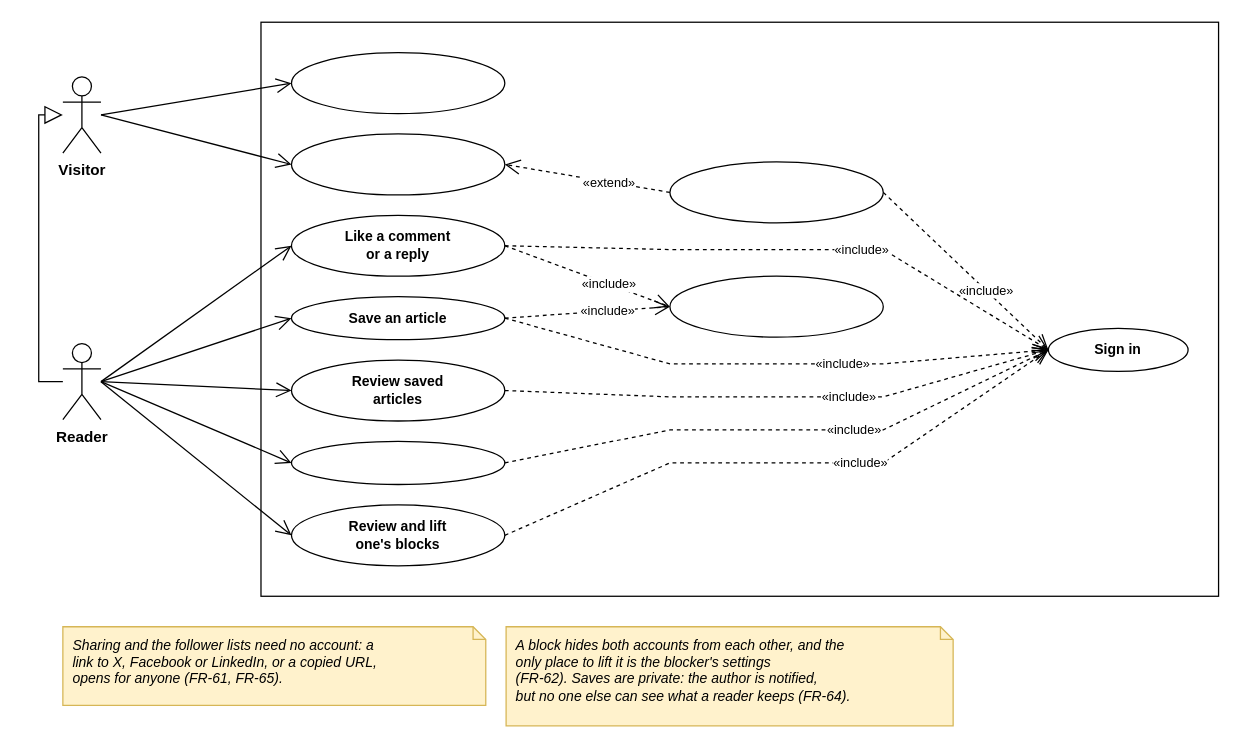
The diagram is 1241 pixels wide and 748 high, and some of its shapes have lost their labels. Here are the shapes that lost their labels. From the top down, the box of each, then its label:
(290, 51, 505, 114): Share an article or a profile
(290, 133, 505, 195): View followers and following lists
(669, 161, 883, 223): Follow or unfollow from a list
(669, 275, 883, 337): Notify the recipient
(290, 440, 505, 485): Block an account
